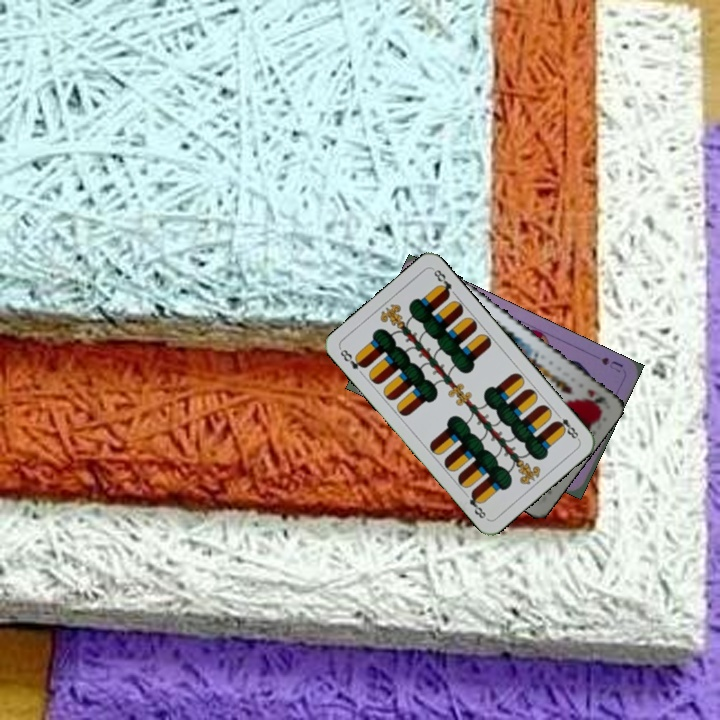E8: (551, 408, 582, 442), (336, 345, 369, 372)
HK: (583, 385, 610, 410)
SU: (597, 353, 626, 375)
